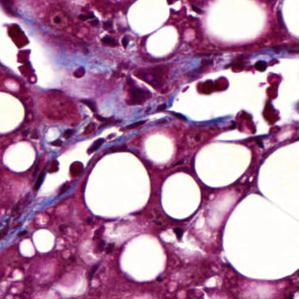steatosis: (83, 151, 150, 217), (159, 172, 202, 220), (0, 92, 26, 136)
